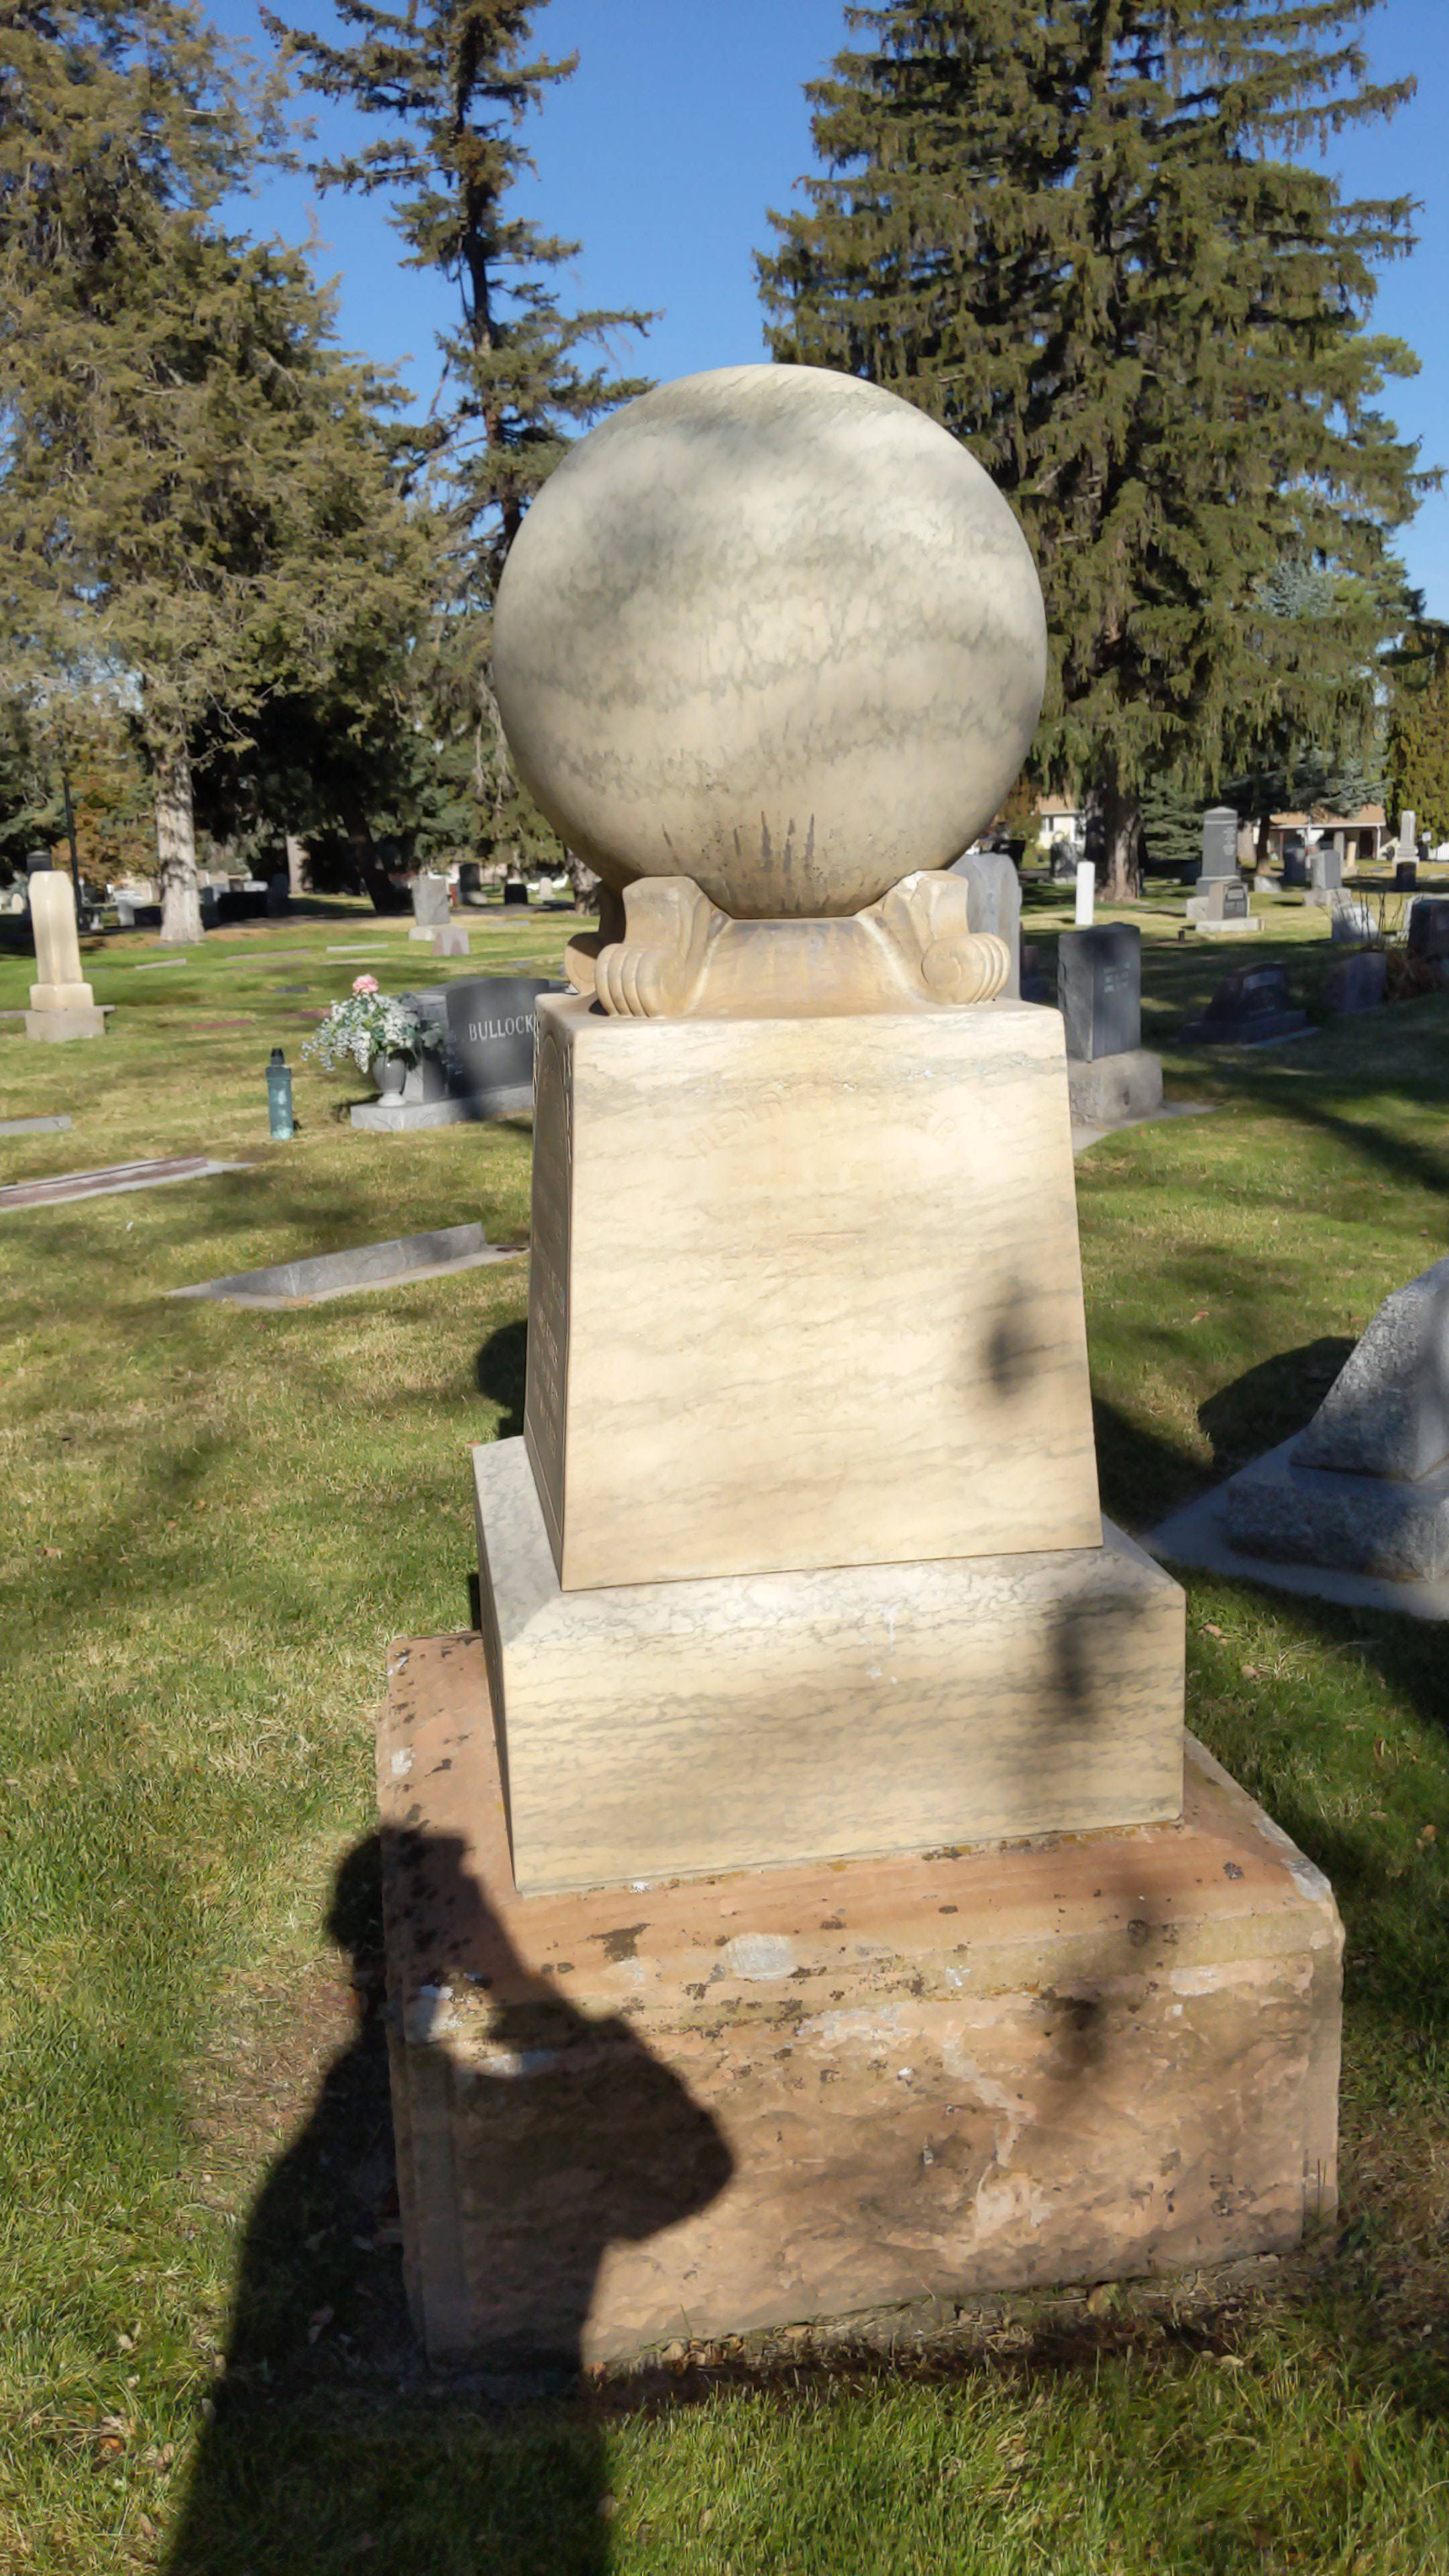obelisk: (449, 372, 1192, 1893)
